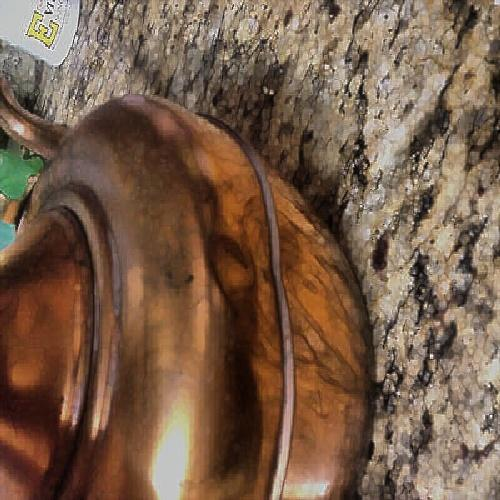kettle: (29, 118, 356, 483)
